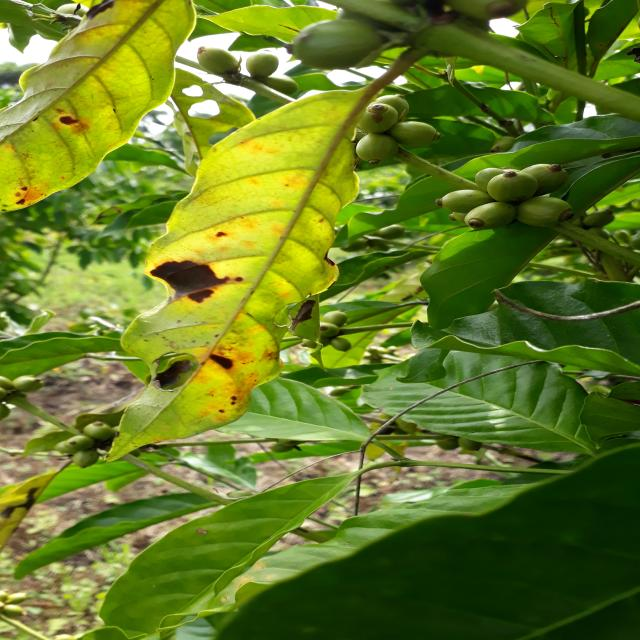Enfermedad-Roya: (113, 72, 392, 456)
